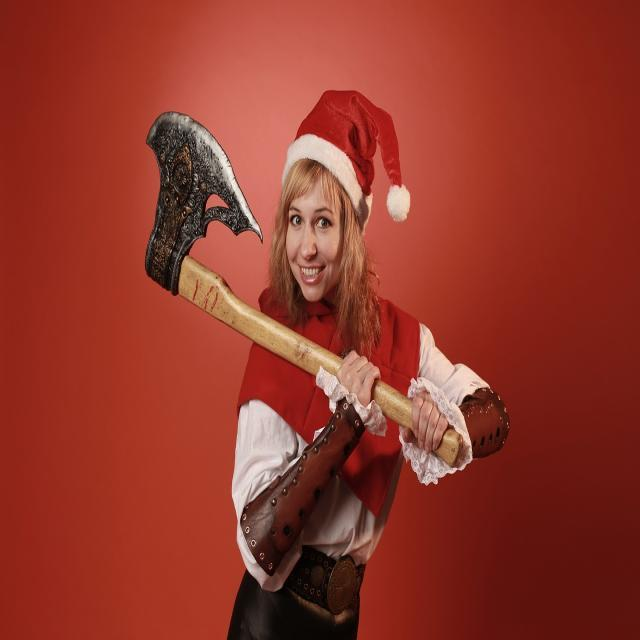Axe: (145, 114, 342, 375), (374, 381, 410, 427)
